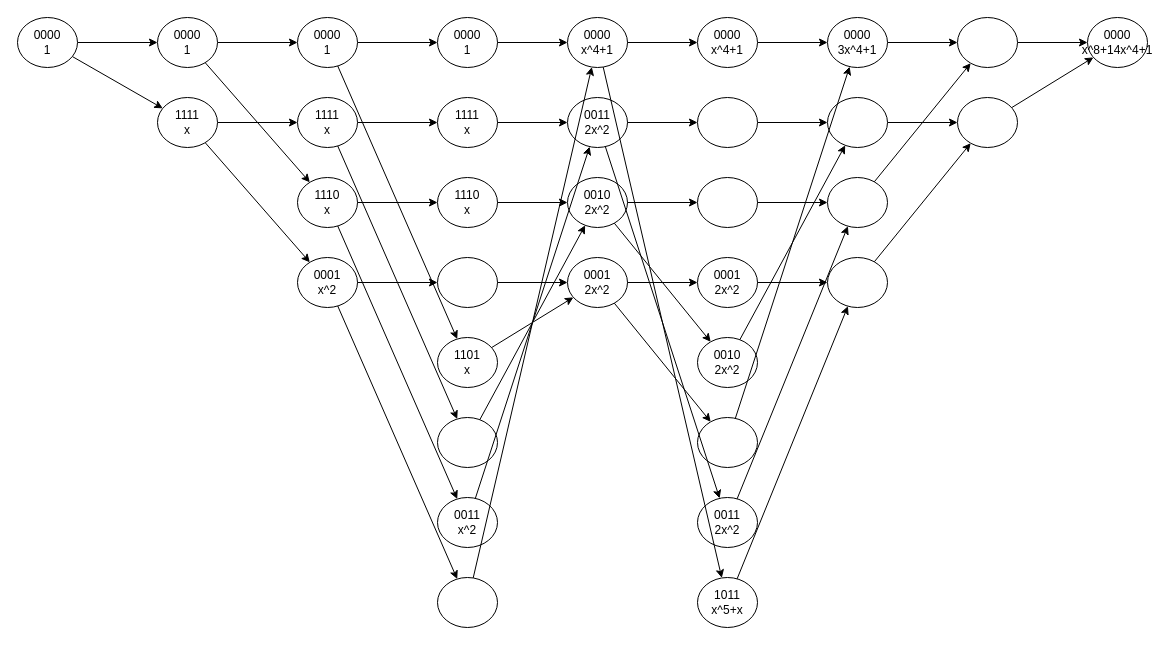
Some shapes in this 1170 by 645 pixel diagram are drawn without their labels. Each missing label, with the centre of its shape:
"0000 7x^4+1" belongs at (987,42).
"0001 x" belongs at (467,282).
"0001 x^6+3x^2" belongs at (857,282).
"0010 x^2" belongs at (467,442).
"1000 2x^3" belongs at (727,122).
"1000 4x^3" belongs at (857,122).
"1000 x^7+7x^3" belongs at (987,122).
"1001 2x^3" belongs at (727,202).
"1001 4x^3" belongs at (857,202).
"1010 2x^3" belongs at (727,442).
"1100 x^3" belongs at (467,602).
